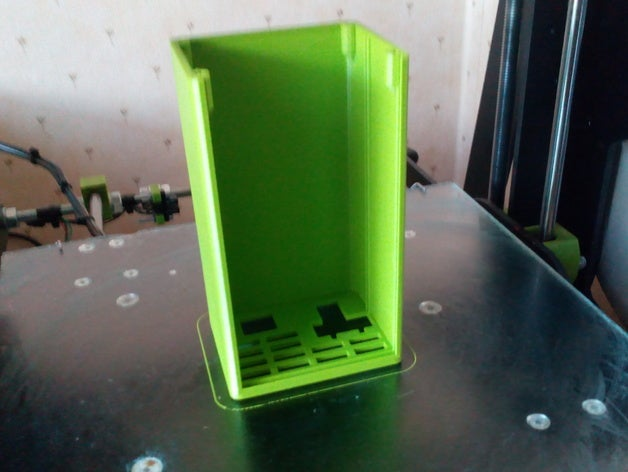Good: (145, 21, 431, 411)
